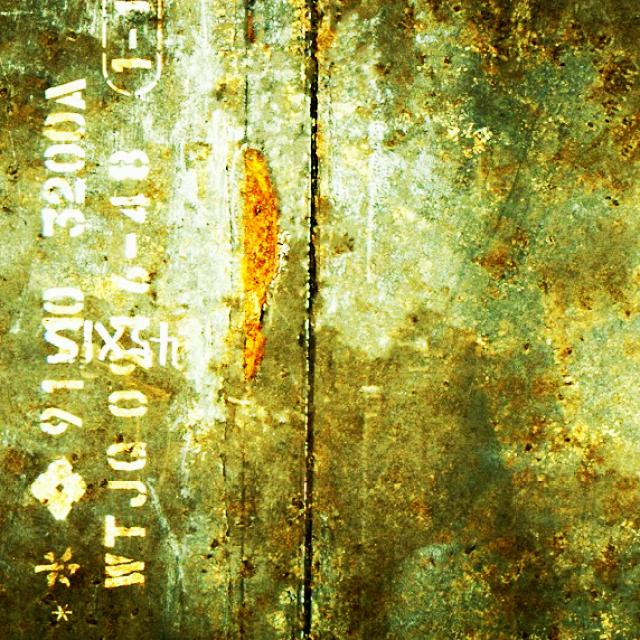Corrosion: (241, 149, 280, 379)
